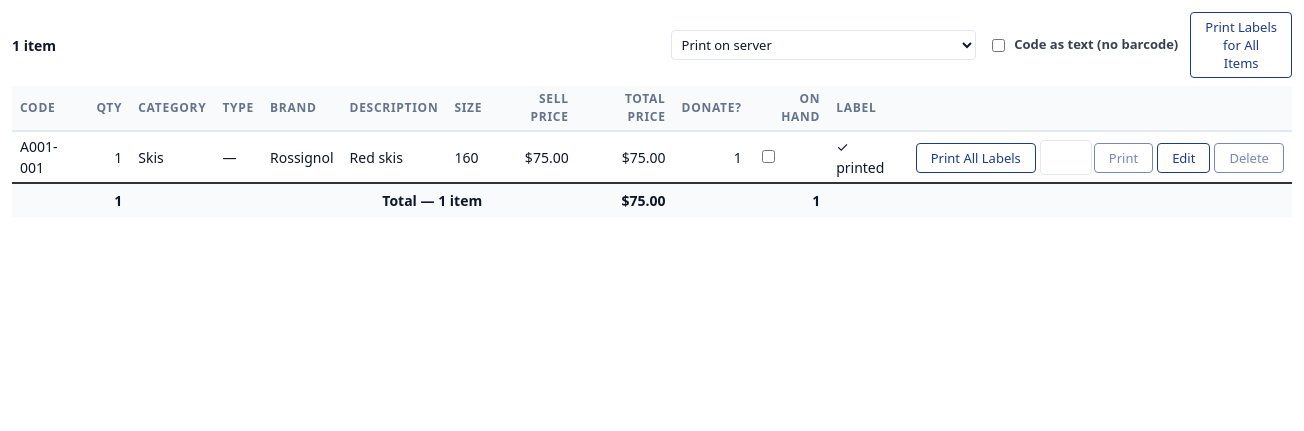
Test case: ItemList › Delete button is disabled in edit panel when label is printed
What coordinates should you click on to do the following:
click the button "Edit"
I would click on:
 (1184, 158)
Its box is [1157, 142, 1210, 172].
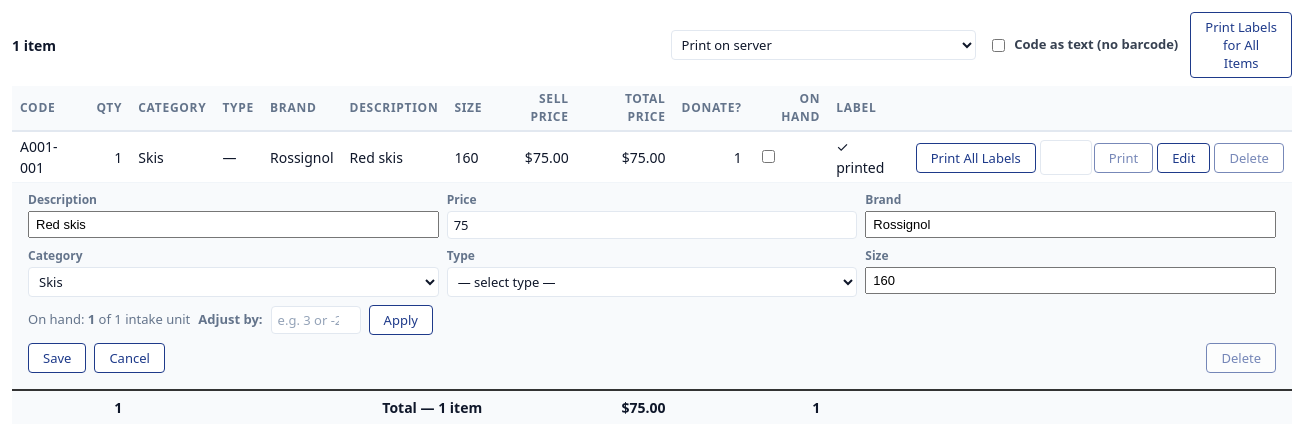
Now the 2nd button "Delete" is disabled, box [1206, 343, 1276, 373]
